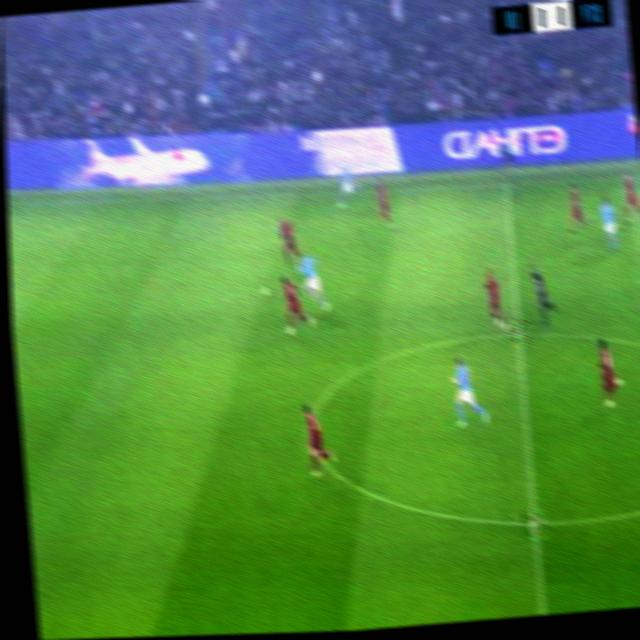halfcircle_bottom: (519, 508, 549, 541)
halfcircle_top: (505, 317, 532, 348)
midline_top_intersection: (496, 171, 515, 200)
